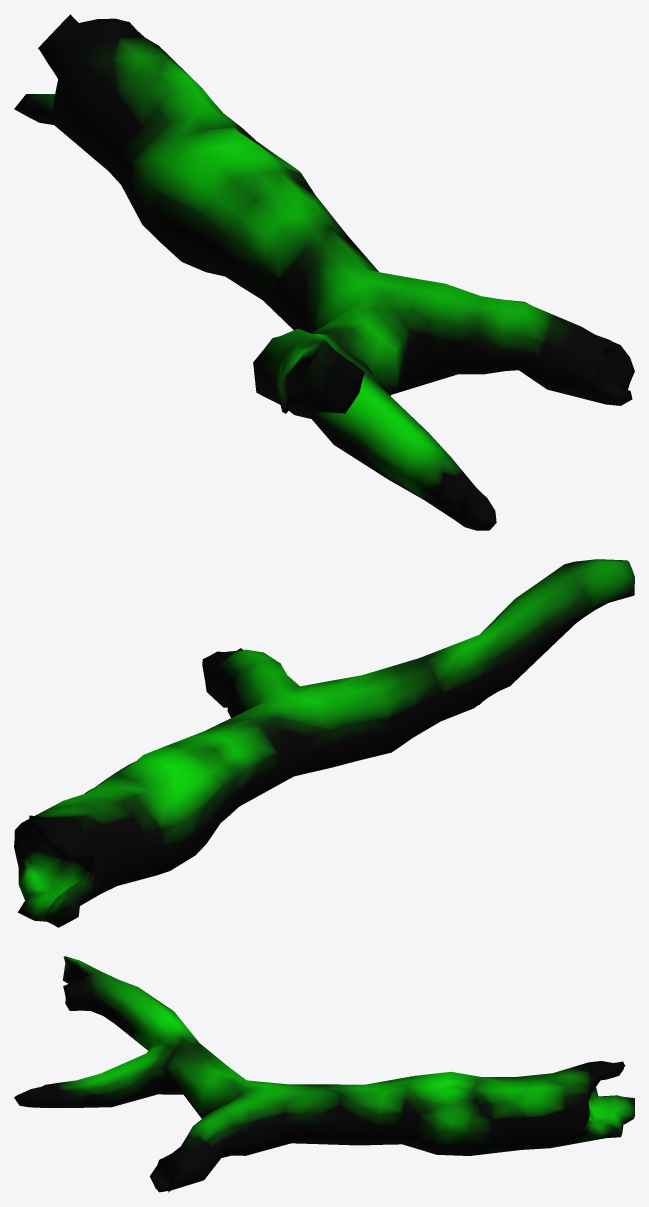
File: SM_OakFallen1.FBX
3 views of the same model, one above another, from view 1: azimuth 30°, elevation 25°; view 2: azimuth 150°, elevation 25°; view 3: azimuth 270°, elevation 25° (orthographic). The views are drawn at different scales.
Parts seen in each view (by area): view 1: SM_OakFallen1_LOD0; view 2: SM_OakFallen1_LOD0; view 3: SM_OakFallen1_LOD0.
Part boxes in pixels (x1,y1,x2,y2): SM_OakFallen1_LOD0: [14, 14, 634, 530]; SM_OakFallen1_LOD0: [14, 559, 634, 927]; SM_OakFallen1_LOD0: [14, 956, 634, 1192].
Size of the model in its own units: 429 by 872 by 187.
